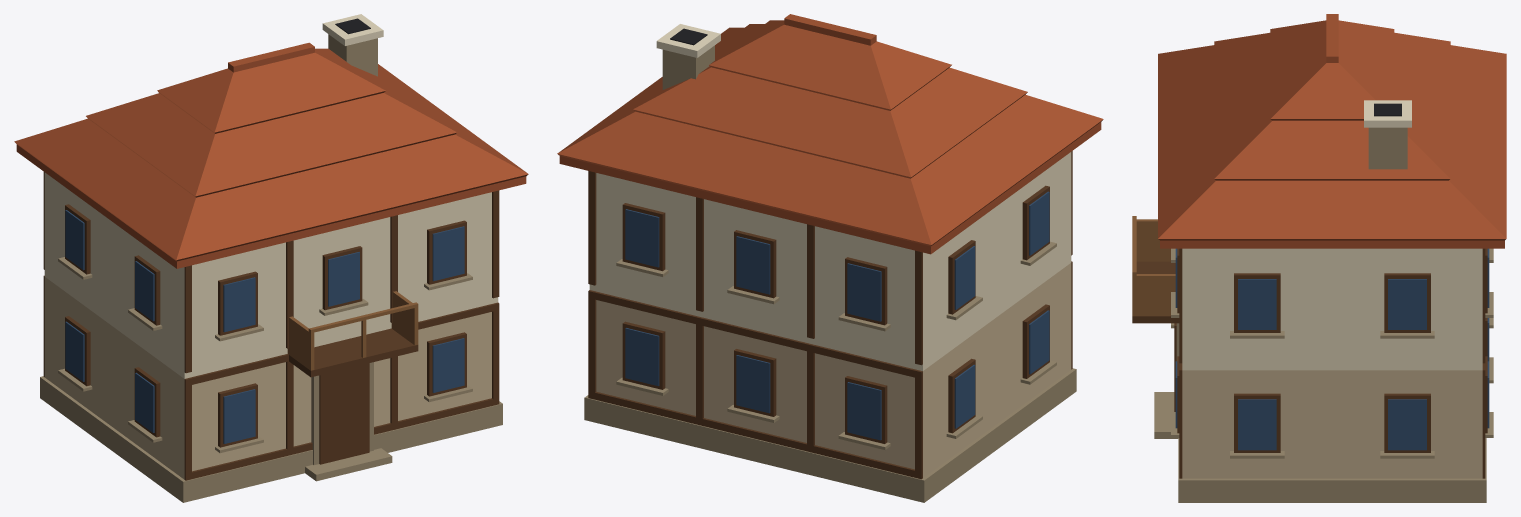
File: House_04_WideSobrado.fbx
3 views of the same model, side by side, from view 1: azimuth 30°, elevation 25°; view 2: azimuth 150°, elevation 25°; view 3: azimuth 270°, elevation 25° (orthographic). The views are drawn at different scales.
Visible parts, largest first — view 1: House_04_WideSobrado; view 2: House_04_WideSobrado; view 3: House_04_WideSobrado.
Boxes of the visible parts, x1=… form: House_04_WideSobrado: x1=14, y1=14, x2=528, y2=502; House_04_WideSobrado: x1=557, y1=14, x2=1103, y2=502; House_04_WideSobrado: x1=1132, y1=14, x2=1506, y2=502.
Size of the model in its own units: 7.87 by 7.61 by 6.73.
